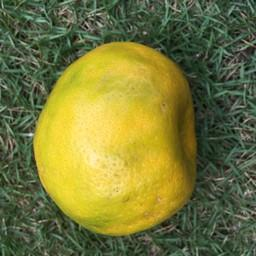Good_orange: (32, 37, 200, 236)
